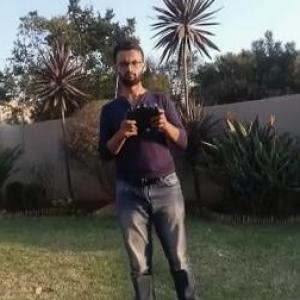follow: (94, 27, 206, 299)
